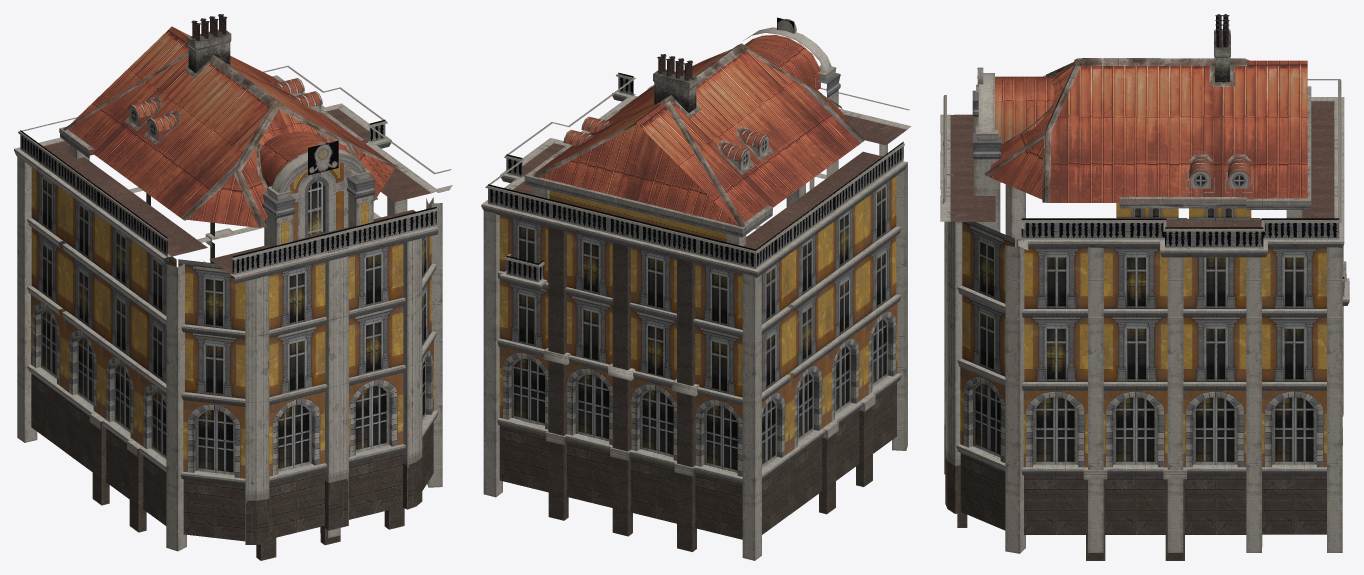
File: tier2_city_end3.gltf
The picture shows the model from 3 angles, left to right: view 1: azimuth 30°, elevation 25°; view 2: azimuth 150°, elevation 25°; view 3: azimuth 270°, elevation 25°; orthographic projection. The views are drawn at different scales.
Visible parts, largest first — view 1: chimney.002; view 2: chimney.002; view 3: chimney.002.
Boxes of the visible parts, x1=… form: chimney.002: x1=14, y1=14, x2=452, y2=560; chimney.002: x1=481, y1=17, x2=910, y2=560; chimney.002: x1=940, y1=14, x2=1349, y2=560.
Size of the model in its own units: 2.13 by 3.01 by 2.39.
1 material, 1 textured.
